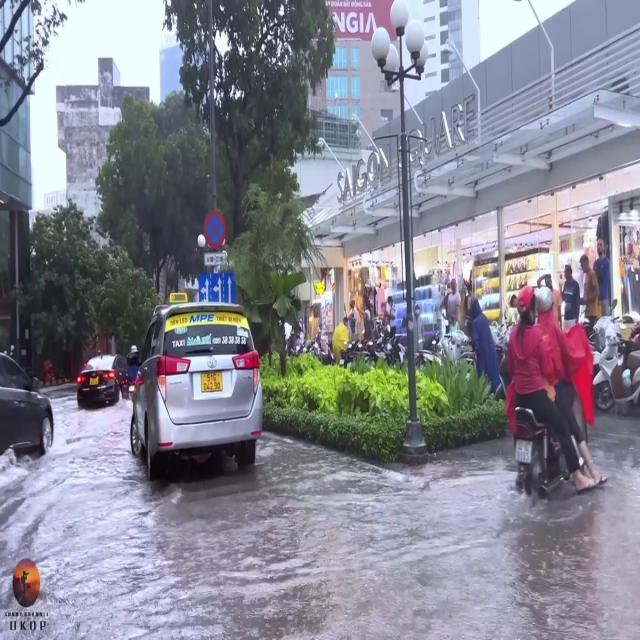bien_trang: (514, 434, 532, 466)
bien_vang: (200, 370, 223, 394)
